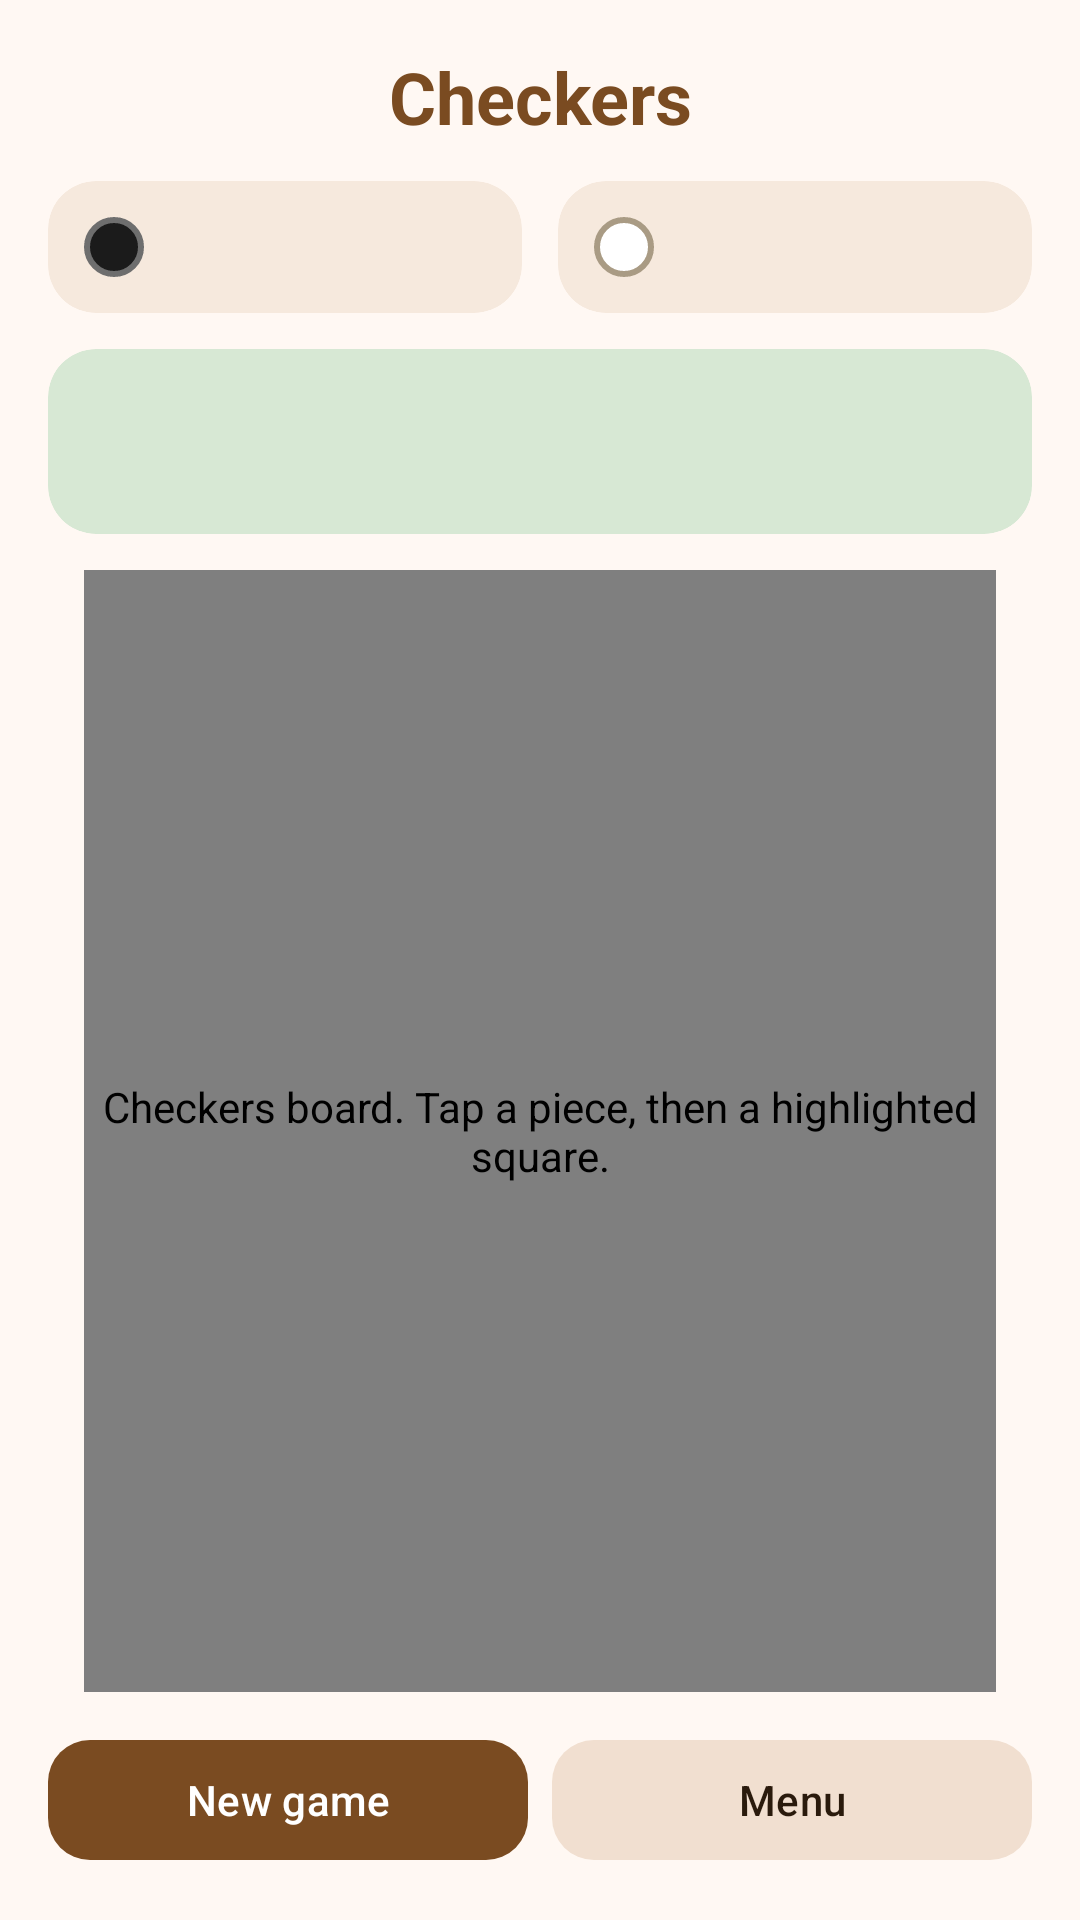

Screen size 1080*1920. Icon name, then its box in pixels as rect(x1, y1, x2, y2):
dot: rect(84, 217, 144, 277), rect(594, 217, 654, 277)
